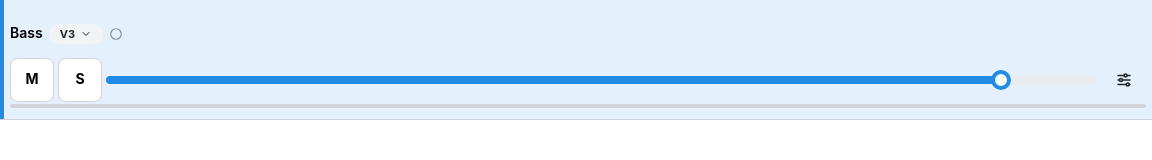
Test: TrackStrip mono/stereo mark › mono, and dual mono plays mono
The image size is (1152, 160).
Hover over the picture with test id "track-channels" at (116, 34), box [110,26,124,40]
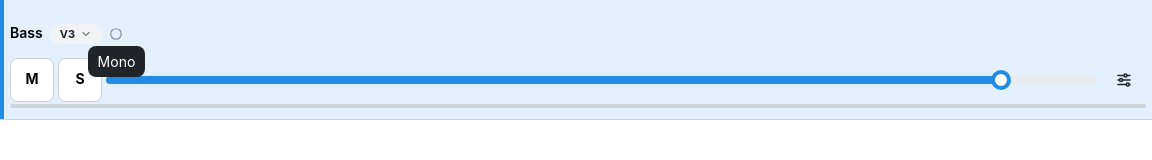
Now the tooltip reads "Mono", box [98,52,135,70]
